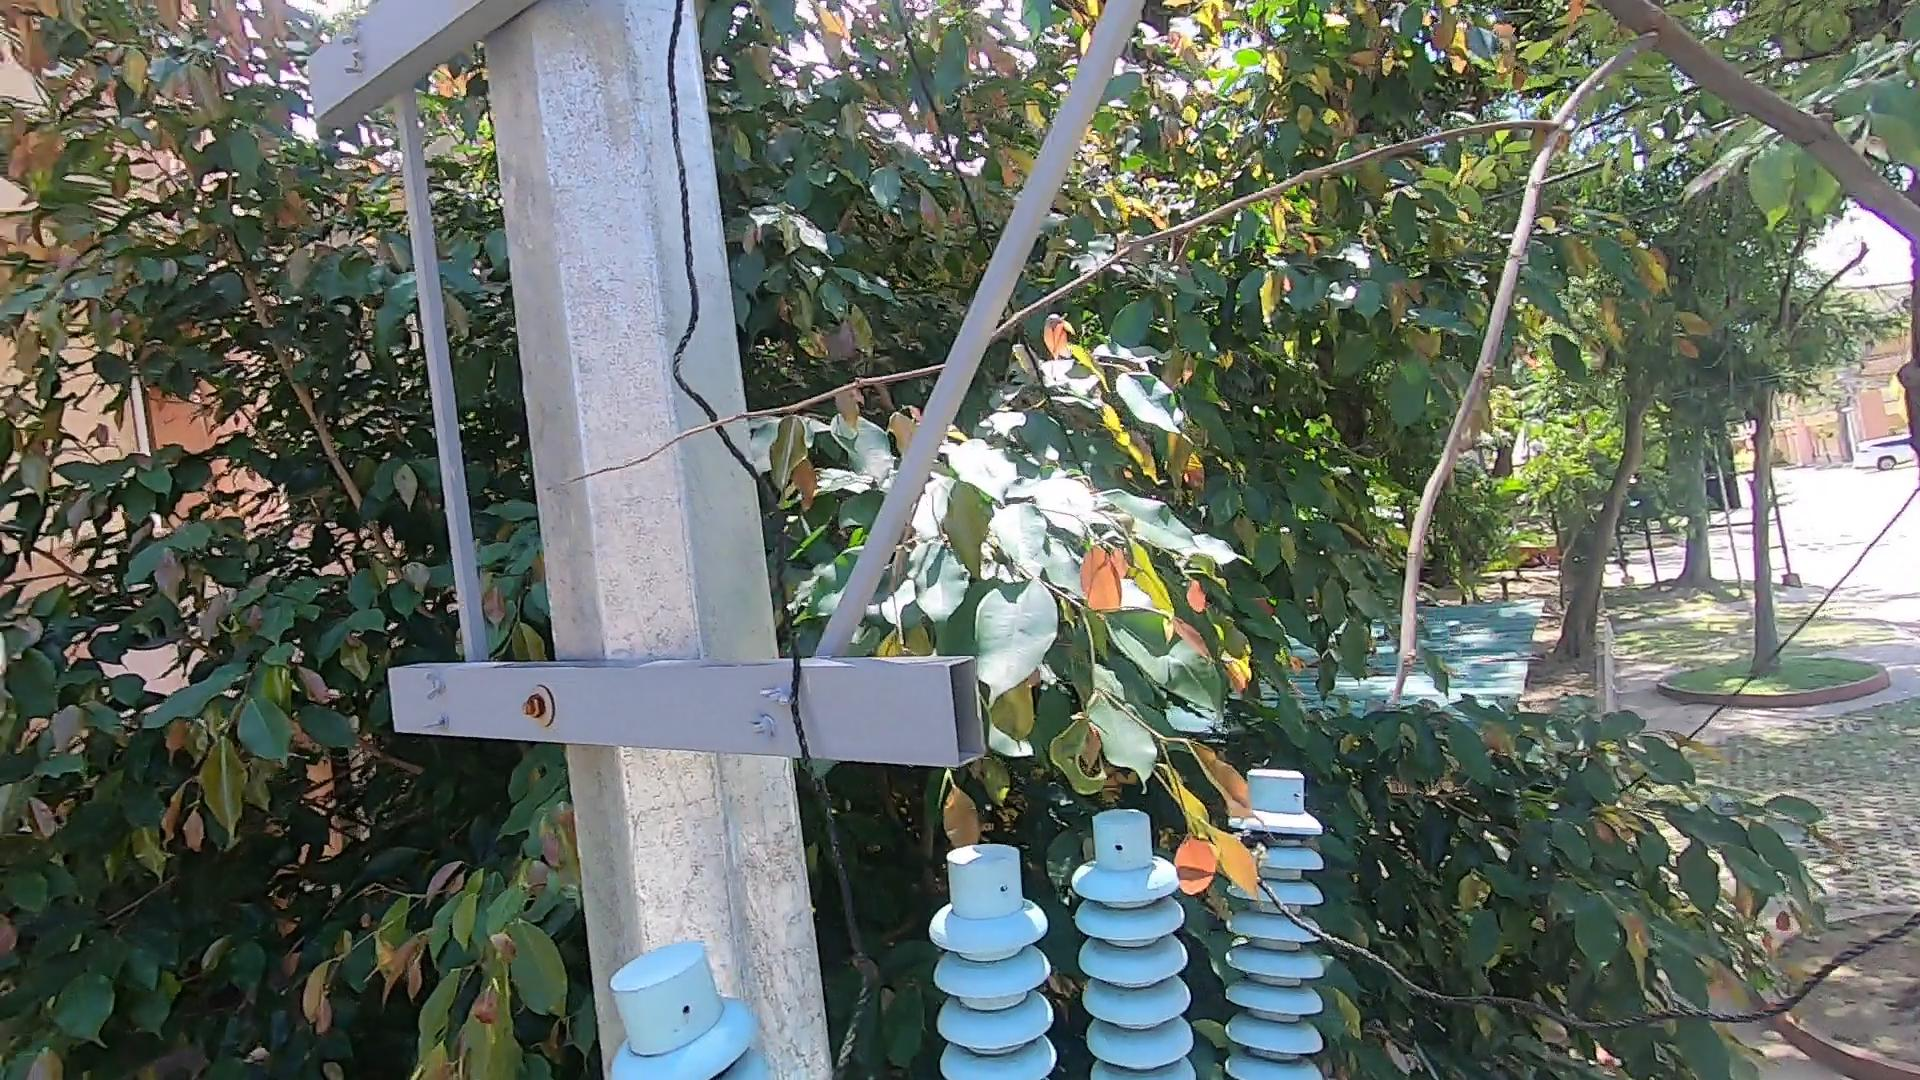branch with leaves: (1156, 766, 1274, 922)
tree branch: (566, 5, 1912, 564)
